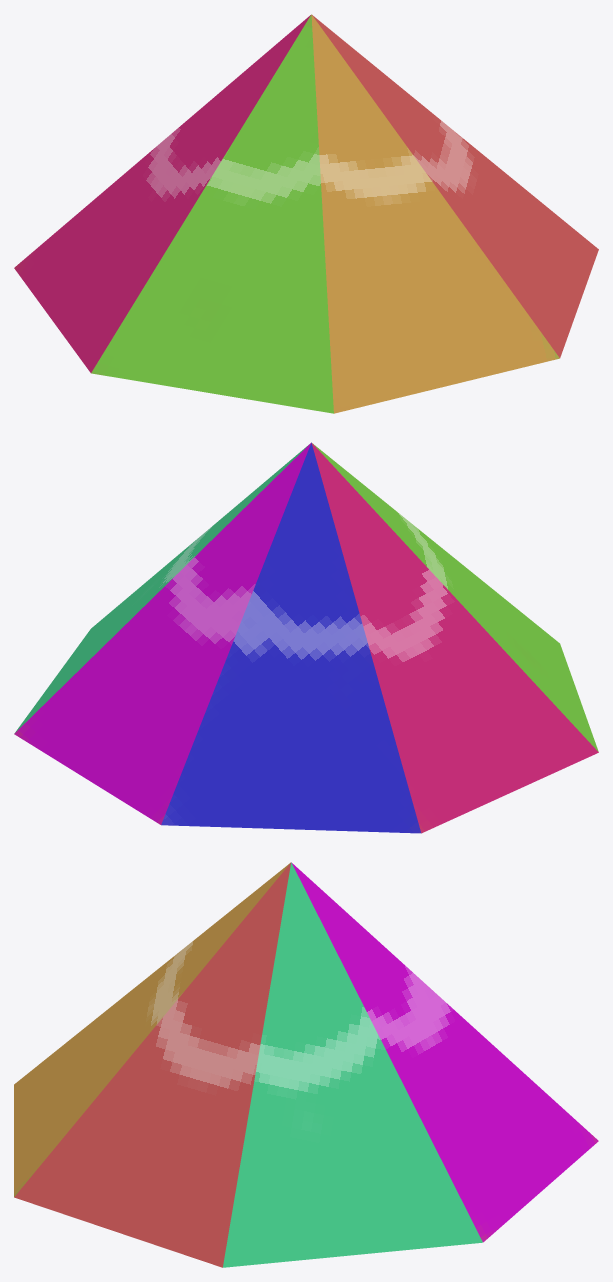
The model's file is cone_with_collision.glb.
3 views of the same model, one above another, from view 1: azimuth 30°, elevation 25°; view 2: azimuth 150°, elevation 25°; view 3: azimuth 270°, elevation 25° (orthographic). The views are drawn at different scales.
Parts seen in each view (by area): view 1: Cone-mesh; view 2: Cone-mesh; view 3: Cone-mesh.
Boxes of the visible parts, x1,y1,x2,y2 form: Cone-mesh: [14, 14, 598, 413]; Cone-mesh: [14, 442, 598, 833]; Cone-mesh: [14, 862, 598, 1267].
Bounding box in the file's own units: 1.95 × 1 × 1.9.
1 material, 1 textured.
